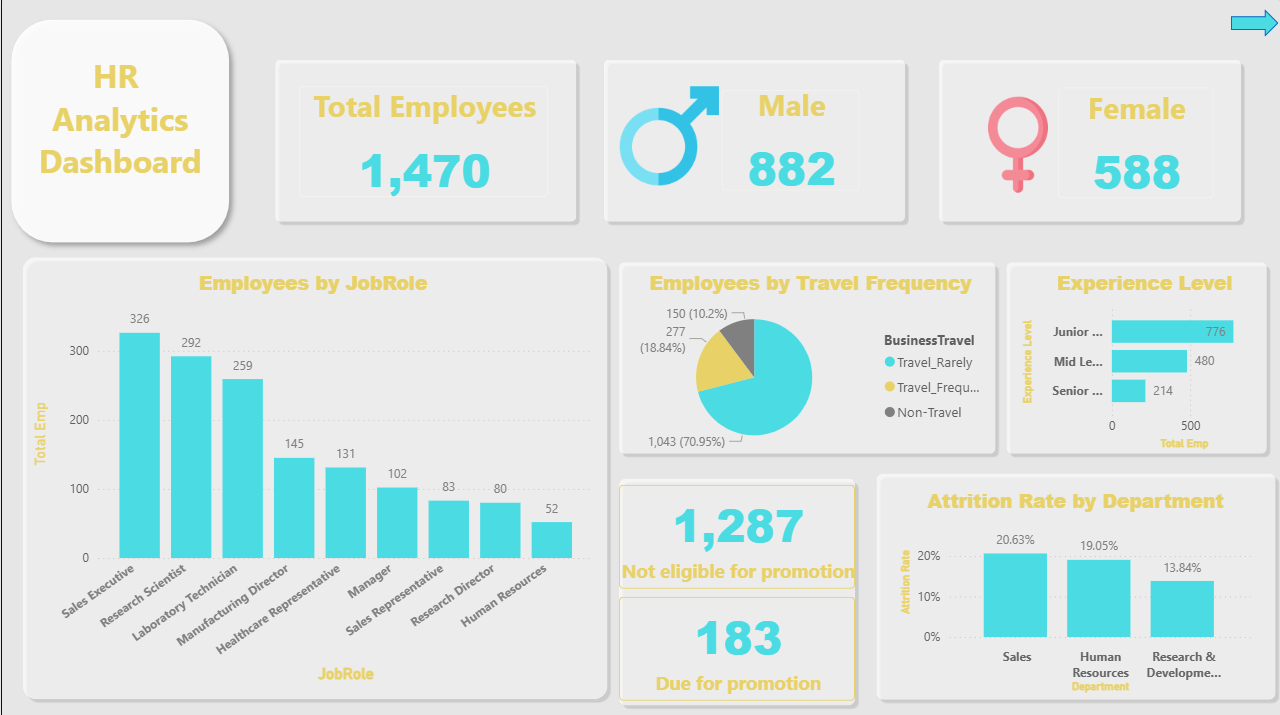

Layout of this report page (visuals, bound fields, positions):
{"tool":"powerbi","page":{"name":"Page 1","canvas":[1280,720],"ordinal":0},"visuals":[{"type":"shape","box":[0,11.7,238.3,243.3],"z":0},{"type":"shape","box":[268.6,55.7,312,172.9],"z":1000,"group":"g3"},{"type":"shape","box":[597.5,56.2,312,172.9],"z":1000,"group":"g1"},{"type":"shape","box":[870,470,410,237.1],"z":1000},{"type":"shape","box":[15.7,254.3,595.7,452.9],"z":2000},{"type":"shape","box":[612.6,475.3,247.1,238],"z":2000,"group":"g4"},{"type":"shape","box":[612.5,258.8,387.5,202.5],"z":3000},{"type":"textbox","box":[15,51.7,208.3,165],"z":4000},{"type":"shape","box":[932.5,56.2,312.9,172.9],"z":4000,"group":"g2"},{"type":"shape","box":[1230,11.2,47.5,27.5],"z":5000},{"type":"group","id":"g1","title":"Group 2","box":[597.5,56.2,312.5,173.8],"z":6000},{"type":"group","id":"g2","title":"Group 1","box":[932.5,56.2,312.5,173.8],"z":7000},{"type":"group","id":"g3","title":"Group 3","box":[268.6,55.7,311.4,172.9],"z":8000},{"type":"cardVisual","fields":{"Data":["Measure.Total Emp"]},"box":[281.5,70.3,283.7,145],"z":9000,"group":"g3"},{"type":"clusteredColumnChart","title":"Employees by JobRole","fields":{"Category":["HR Analytics Data.JobRole"],"Y":["Measure.Total Emp"]},"box":[25.7,271.4,571.4,418.6],"z":9000},{"type":"image","box":[944.5,99.1,144.5,95.8],"z":10000,"group":"g2"},{"type":"group","id":"g4","title":"Group 4","box":[601.2,470,270,250],"z":10000},{"type":"pieChart","title":"Employees by Travel Frequency","fields":{"Category":["HR Analytics Data.BusinessTravel"],"Y":["Measure.Total Emp"]},"box":[618.8,271.2,381.2,190],"z":11000},{"type":"cardVisual","fields":{"Data":["Measure.Male"]},"box":[704,74.4,172.9,135.7],"z":12000,"group":"g1"},{"type":"cardVisual","fields":{"Data":["Measure.Not eligible for promotion","Measure.Due for promotion"]},"box":[601.2,470,270,250],"z":12000,"group":"g4"},{"type":"columnChart","title":"Attrition Rate by Department","fields":{"Y":["Measure.Attrition Rate"],"Category":["HR Analytics Data.Department"]},"box":[893.8,488.8,361.2,211.2],"z":12000},{"type":"cardVisual","fields":{"Data":["Measure.Female"]},"box":[1039.9,72.3,190.8,145],"z":13000,"group":"g2"},{"type":"shape","box":[1000,258.8,271.2,202.5],"z":13000},{"type":"barChart","title":" Experience Level","fields":{"Category":["HR Analytics Data.Experience Level"],"Y":["Measure.Total Emp"]},"box":[1016.2,271.2,255,185],"z":14000},{"type":"image","box":[618.9,76.6,99,123.5],"z":15000,"group":"g1"}]}

Visuals, with their boxes in screenshot pixels (x1, y1, x2, y2), scaled from the page's 1280x720 canvas onto the 1280x715 screenshot:
shape: box(0, 12, 238, 253)
shape: box(269, 55, 581, 227)
shape: box(598, 56, 910, 228)
shape: box(870, 467, 1279, 702)
shape: box(16, 253, 611, 702)
shape: box(613, 472, 860, 708)
shape: box(612, 257, 1000, 458)
textbox: box(15, 51, 223, 215)
shape: box(932, 56, 1245, 228)
shape: box(1230, 11, 1278, 38)
"Group 2" group: box(598, 56, 910, 228)
"Group 1" group: box(932, 56, 1245, 228)
"Group 3" group: box(269, 55, 580, 227)
cardVisual - Measure.Total Emp: box(282, 70, 565, 214)
"Employees by JobRole" clusteredColumnChart: box(26, 270, 597, 685)
image: box(944, 98, 1089, 194)
"Group 4" group: box(601, 467, 871, 714)
"Employees by Travel Frequency" pieChart: box(619, 269, 1000, 458)
cardVisual - Measure.Male: box(704, 74, 877, 209)
cardVisual - Measure.Not eligible for promotion x Measure.Due for promotion: box(601, 467, 871, 714)
"Attrition Rate by Department" columnChart: box(894, 485, 1255, 695)
cardVisual - Measure.Female: box(1040, 72, 1231, 216)
shape: box(1000, 257, 1271, 458)
" Experience Level" barChart: box(1016, 269, 1271, 453)
image: box(619, 76, 718, 199)
